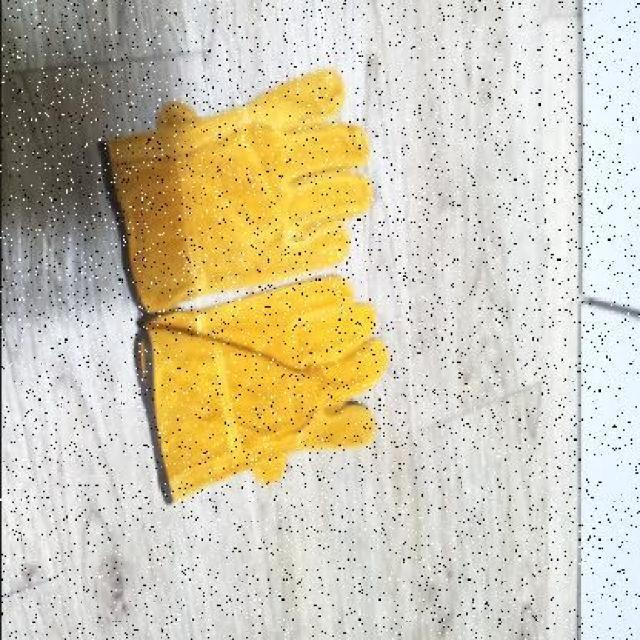glove: (99, 67, 389, 505)
